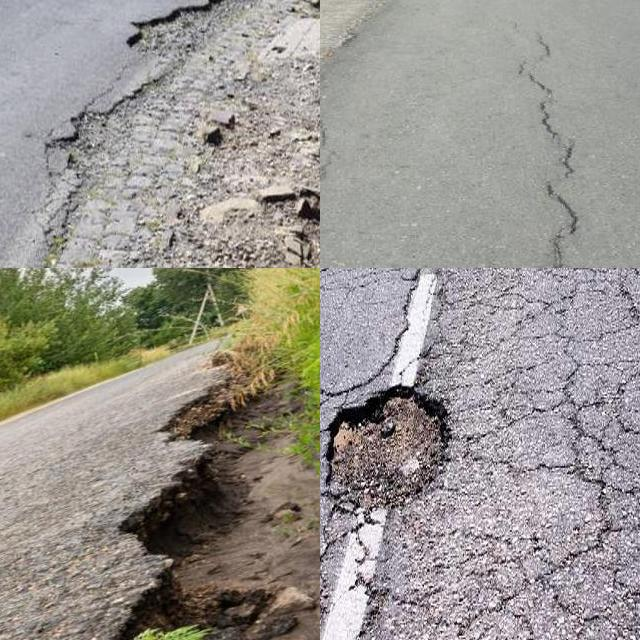Lubang: (324, 385, 461, 500)
Memanjang: (511, 34, 592, 268), (320, 100, 343, 197)
Pinggir: (5, 0, 320, 268), (97, 353, 252, 640)
Retak Buaya: (320, 268, 640, 640)
